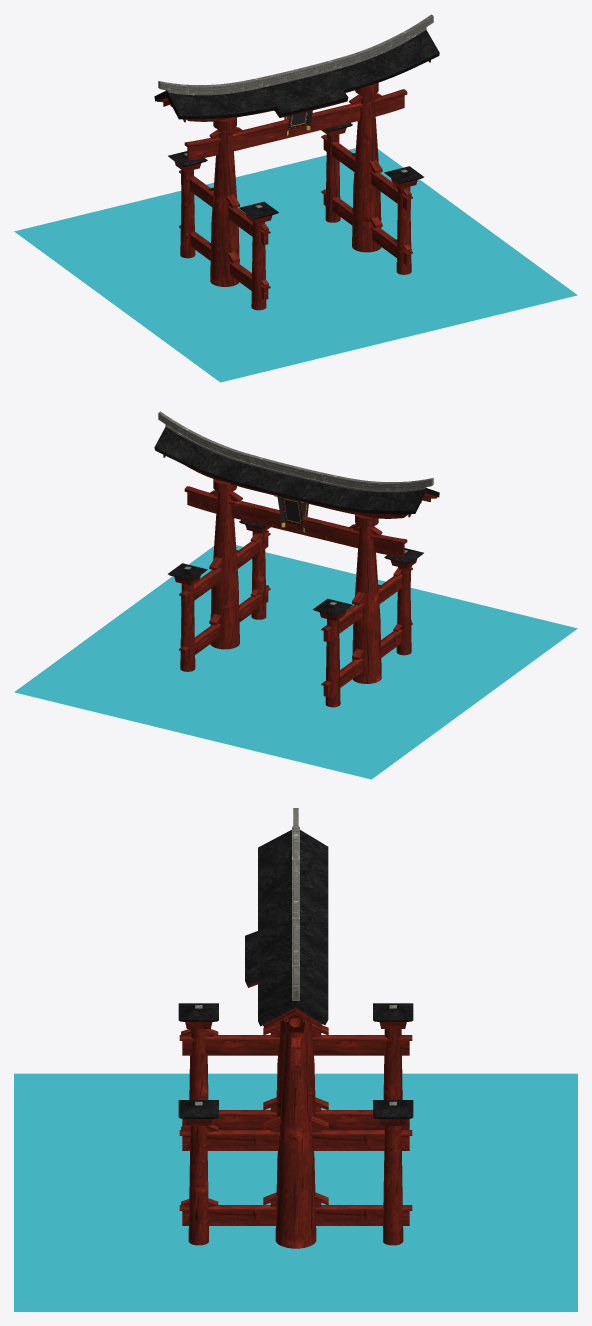
3 renders of one model, top to bottom at view 1: azimuth 30°, elevation 25°; view 2: azimuth 150°, elevation 25°; view 3: azimuth 270°, elevation 25°, orthographic. The views are drawn at different scales.
Parts seen in each view (by area): view 1: TEXEL SIZE_15, Cube.004_6, Cylinder_0, Cylinder.001_3, Cube.001_2, Cube_1, Cube.002_4, Cube.010_12, Cube.008_10; view 2: TEXEL SIZE_15, Cube.004_6, Cylinder_0, Cylinder.001_3, Cube.001_2, Cube_1, Cube.002_4, Cube.006_8, Cube.010_12, Cube.008_10, Cube.003_5; view 3: TEXEL SIZE_15, Cube.004_6, Cube.001_2, Cylinder_0, Cylinder.001_3, Cube.002_4, Cube.008_10, Cube.010_12.
Part boxes in pixels (<box>): TEXEL SIZE_15: <box>14,148,577,382</box>; Cube.004_6: <box>154,14,439,119</box>; Cylinder_0: <box>210,82,381,286</box>; Cylinder.001_3: <box>180,134,411,310</box>; Cube.001_2: <box>179,134,412,299</box>; Cube_1: <box>184,89,407,160</box>; Cube.002_4: <box>168,123,423,219</box>; Cube.010_12: <box>174,127,417,223</box>; Cube.008_10: <box>209,153,382,262</box>; TEXEL SIZE_15: <box>14,545,577,779</box>; Cube.004_6: <box>154,411,439,514</box>; Cylinder_0: <box>210,479,381,683</box>; Cylinder.001_3: <box>180,531,411,707</box>; Cube.001_2: <box>179,532,412,696</box>; Cube_1: <box>184,486,407,557</box>; Cube.002_4: <box>168,520,423,616</box>; Cube.006_8: <box>274,495,308,532</box>; Cube.010_12: <box>174,524,417,620</box>; Cube.008_10: <box>209,550,382,659</box>; Cube.003_5: <box>185,465,421,518</box>; TEXEL SIZE_15: <box>14,1073,577,1311</box>; Cube.004_6: <box>245,808,328,1026</box>; Cube.001_2: <box>179,1035,412,1225</box>; Cylinder_0: <box>275,1020,316,1248</box>; Cylinder.001_3: <box>188,1029,403,1245</box>; Cube.002_4: <box>178,1003,413,1118</box>; Cube.008_10: <box>263,1022,328,1207</box>; Cube.010_12: <box>185,1022,406,1125</box>.
Bounding box in the file's own units: 40 × 23.18 × 40.
Materials: 7 (3 with a texture image).
